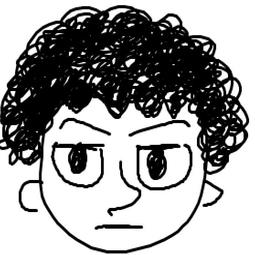ear: (12, 177, 41, 216), (198, 176, 228, 209)
eye: (133, 142, 195, 193), (48, 138, 107, 191)
frowning_eyebrow: (58, 116, 113, 139), (126, 119, 192, 137)
line_unsmiling_mouth: (94, 223, 147, 232)
nose: (104, 161, 141, 215)
